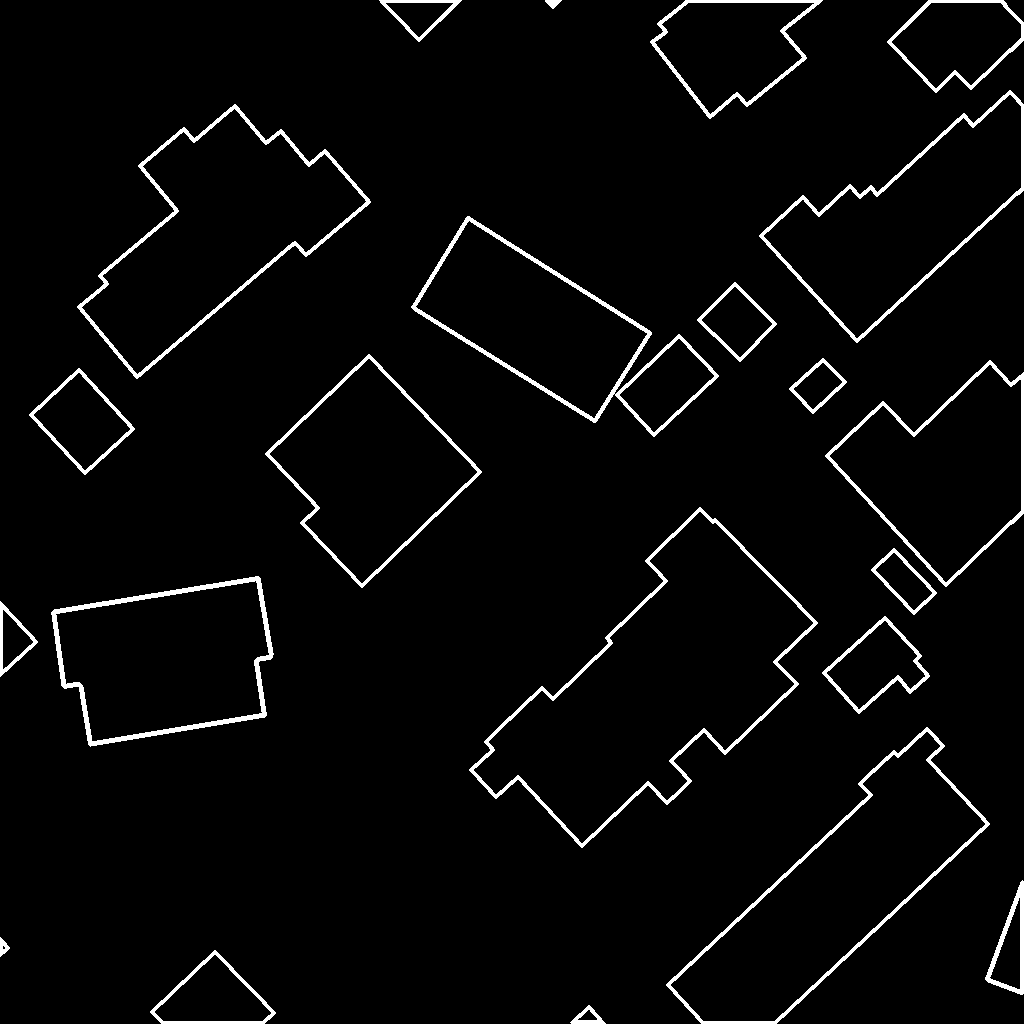building: (471, 509, 817, 847), (668, 729, 989, 1024), (79, 106, 370, 378), (761, 92, 1024, 342), (267, 356, 481, 587), (413, 218, 651, 422), (827, 362, 1024, 586), (53, 578, 272, 745), (652, 0, 823, 118), (889, 0, 1024, 92), (31, 370, 134, 474), (617, 336, 718, 436), (824, 618, 929, 713), (152, 952, 275, 1024), (699, 284, 776, 361), (987, 881, 1024, 994), (873, 550, 936, 614), (380, 0, 461, 41), (791, 360, 846, 413), (0, 603, 37, 676), (572, 1007, 605, 1024), (0, 939, 9, 956), (546, 0, 561, 8)
